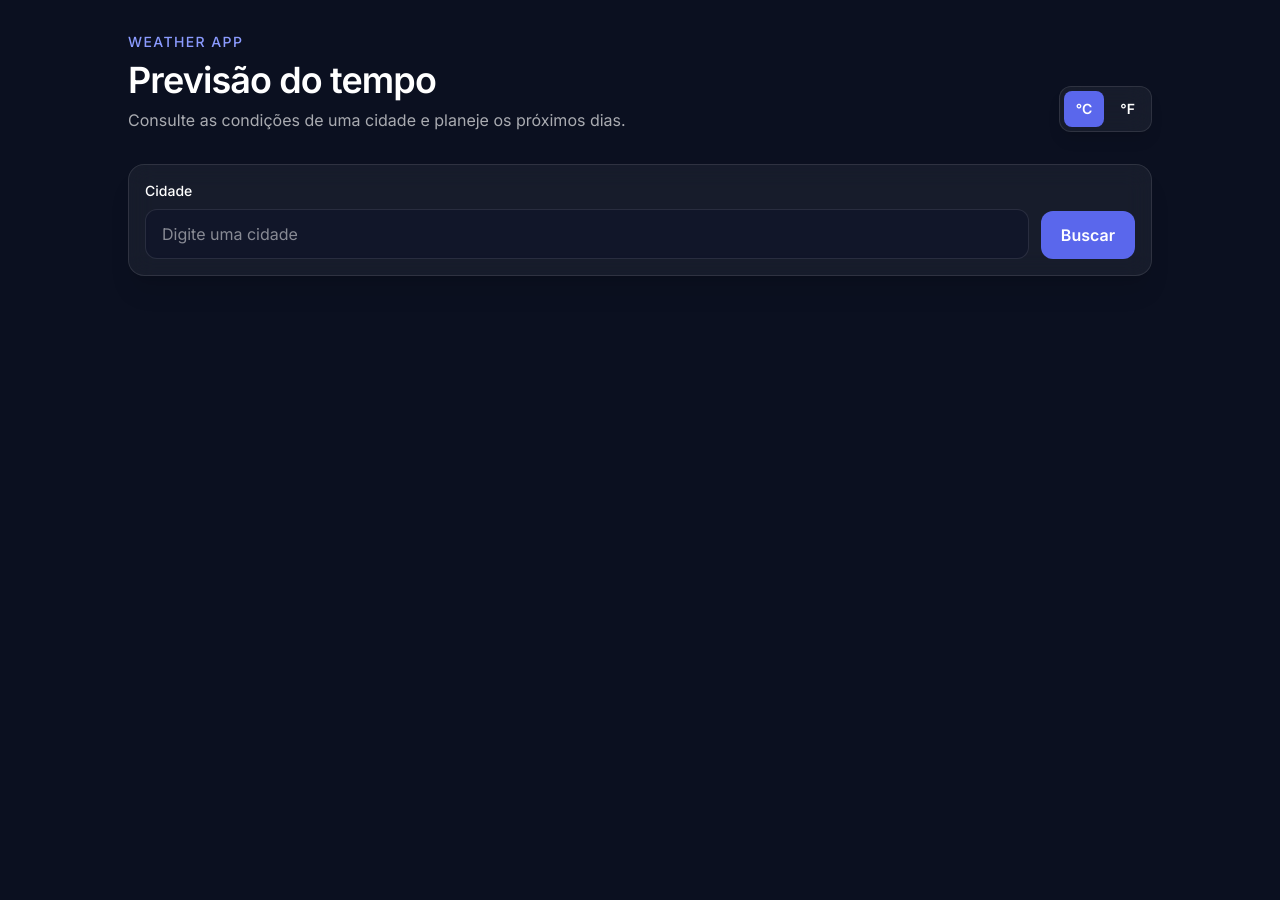
it: App › connects search, selection, forecast, and unit presentation
Type "São Paulo" into the search field labelled "Cidade".
click(587, 234); type("São Paulo")  # box top-left (145, 209), bottom-right (1029, 259)
Click the button "Buscar".
click(1088, 235)  # box top-left (1041, 211), bottom-right (1135, 259)
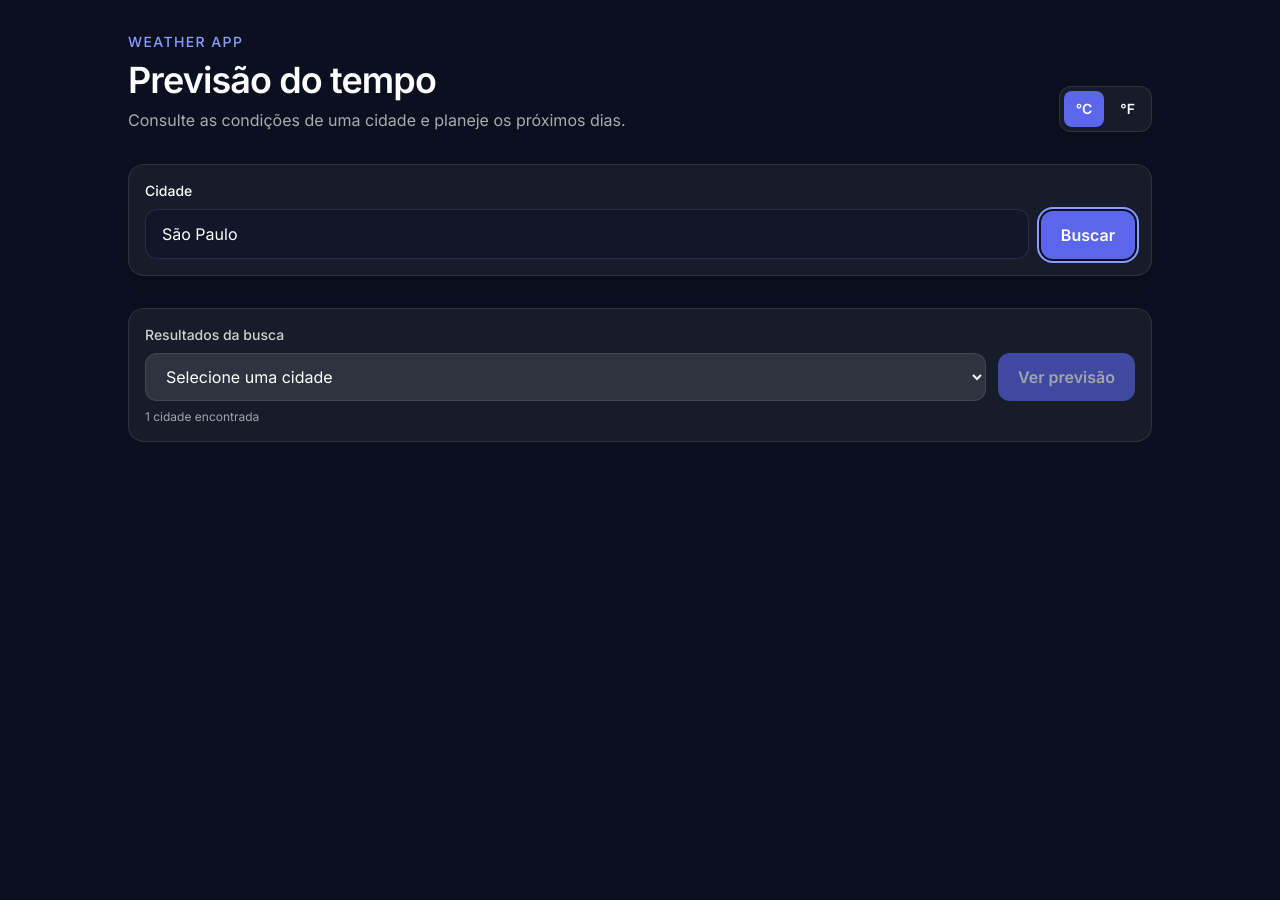
Select "São Paulo, São Paulo, Brasil" in the dropdown labelled "Resultados da busca" at (566, 377), box top-left (145, 353), bottom-right (986, 401)
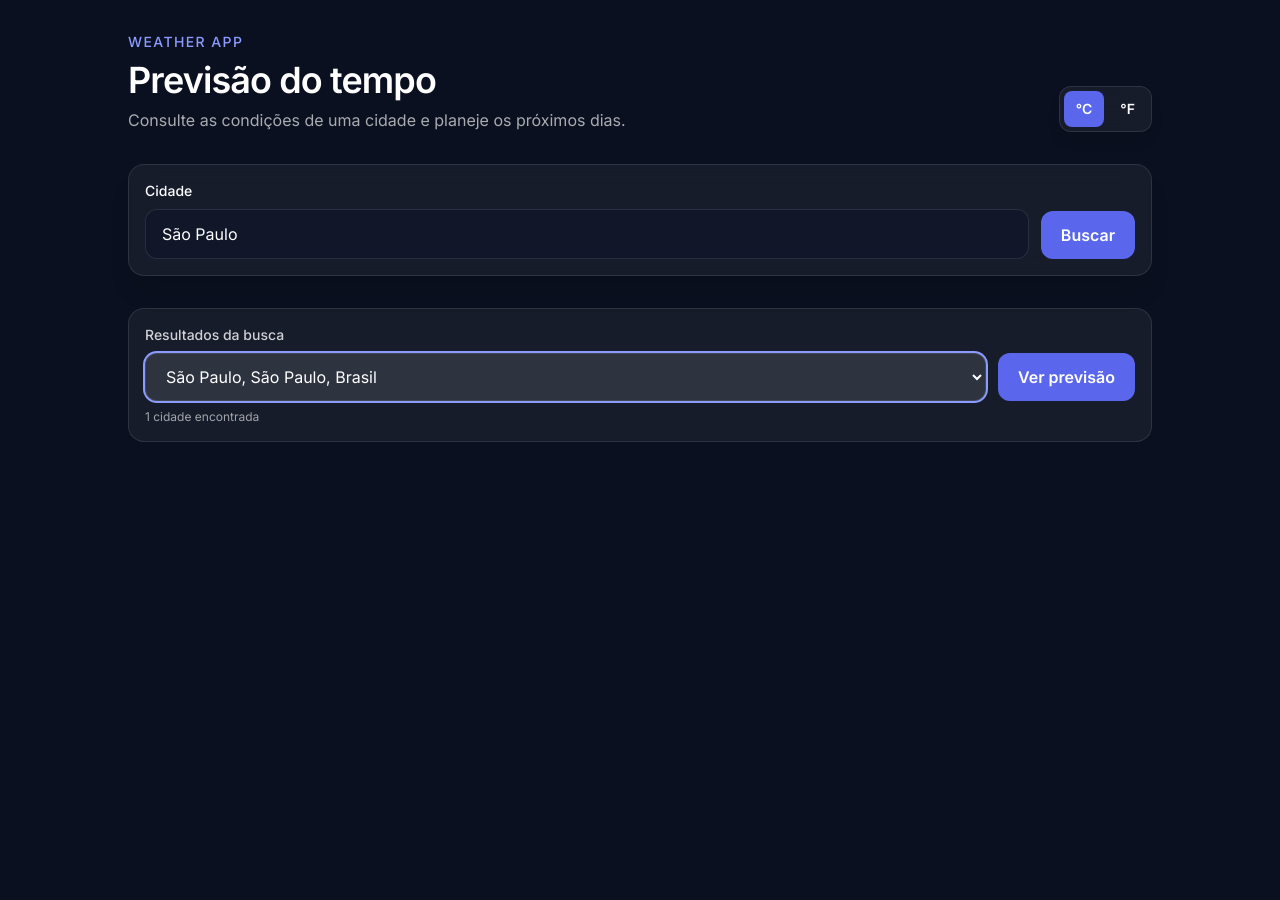
Click the button "Ver previsão".
click(1066, 377)  # box top-left (998, 353), bottom-right (1135, 401)
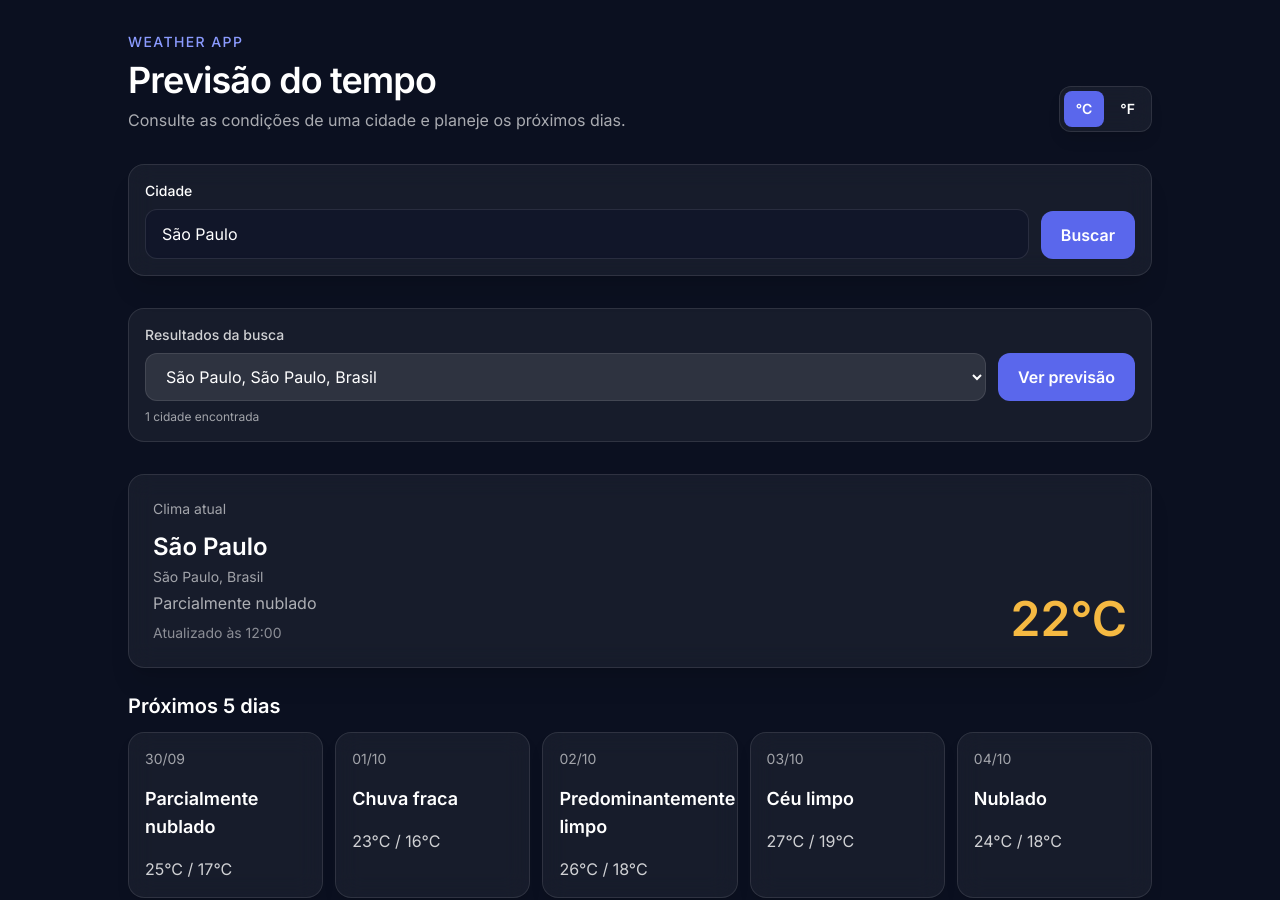
Check: the text "22°C" is shown, box top-left (1011, 595), bottom-right (1127, 643)
Click the button named "Fahrenheit".
click(1128, 109)  # box top-left (1108, 91), bottom-right (1147, 127)
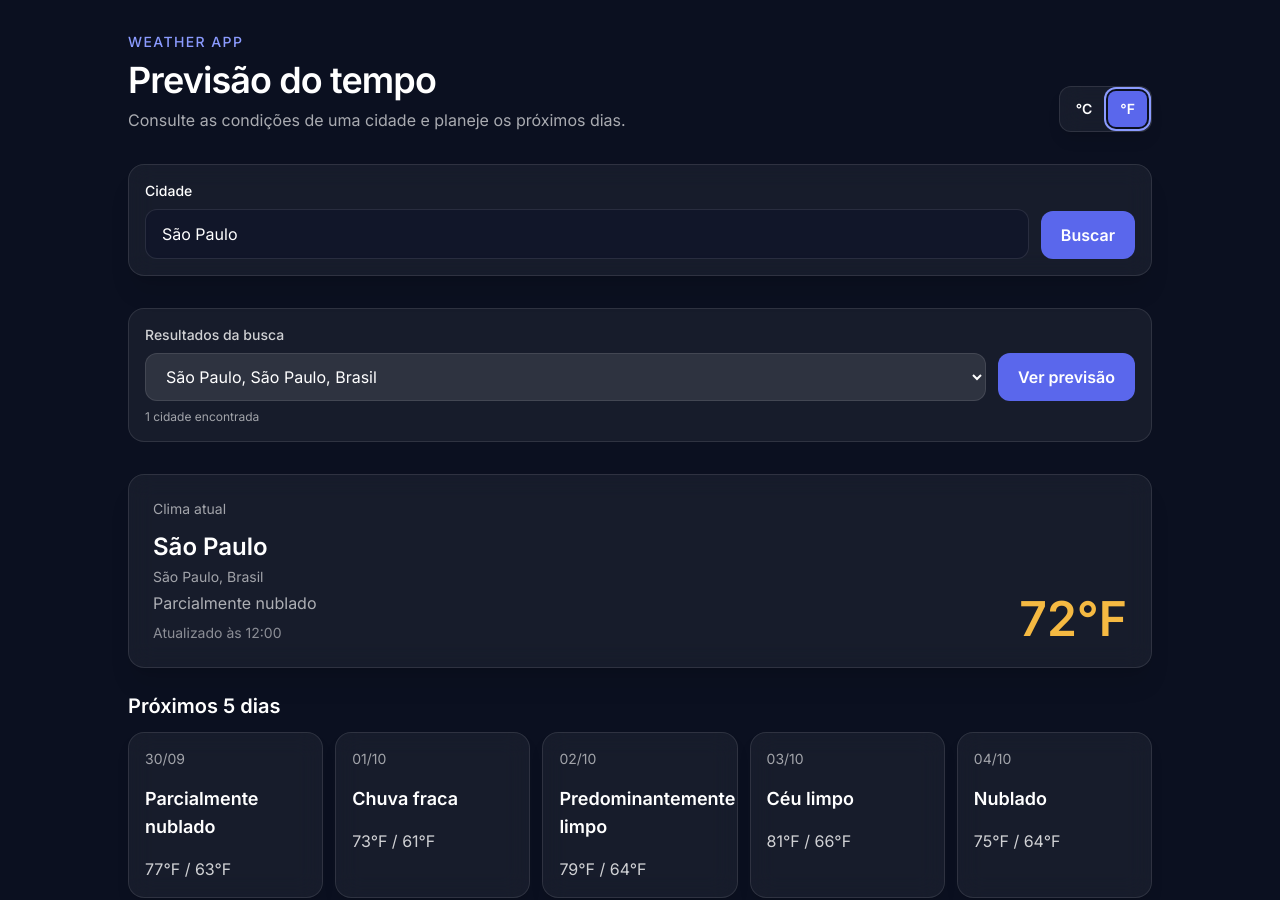
Check: the text "72°F" is shown, box top-left (1019, 595), bottom-right (1127, 643)
Replace the text in the search field labelled "Cidade" with "!!!" at (587, 234), box top-left (145, 209), bottom-right (1029, 259)
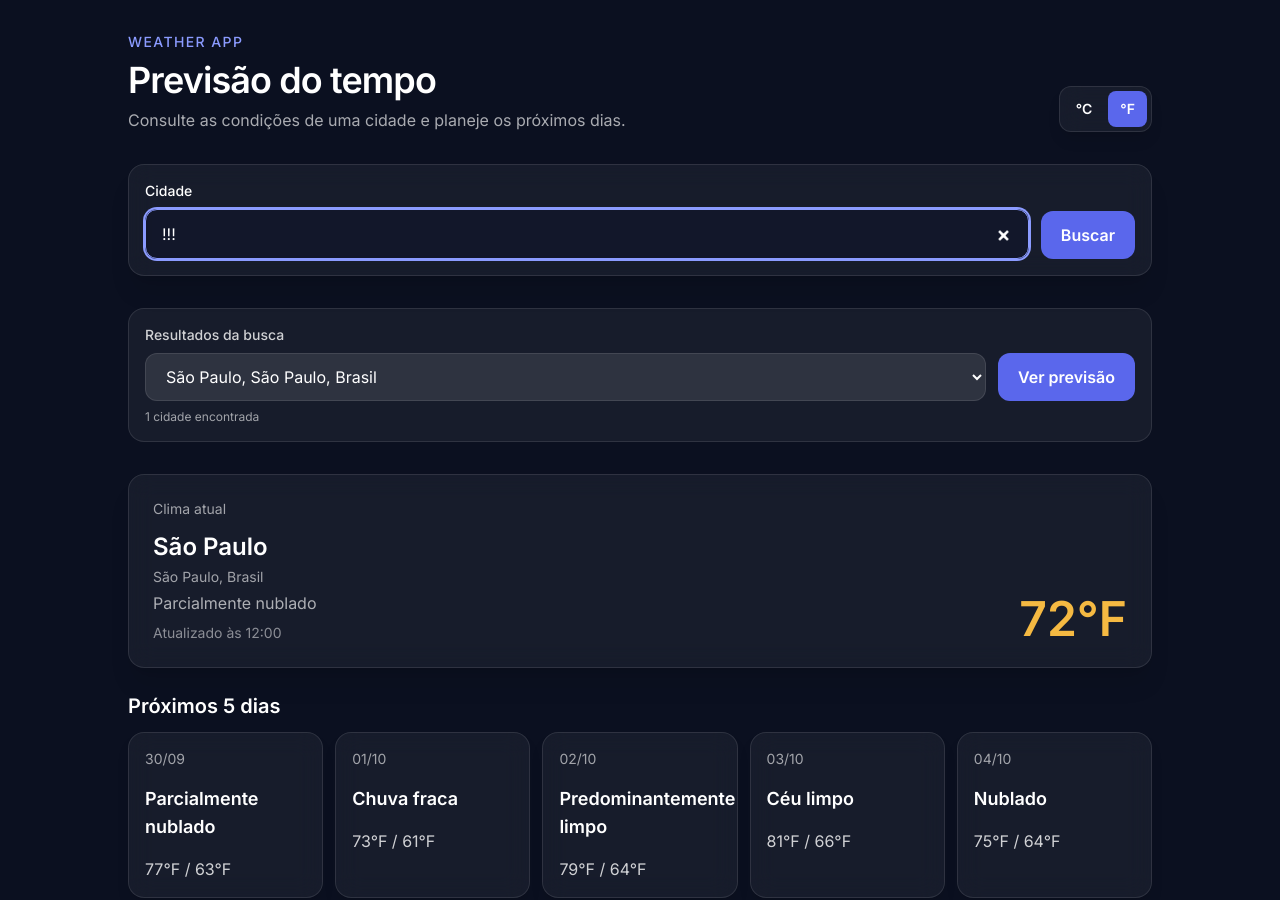
Click the button "Buscar".
click(1088, 235)  # box top-left (1041, 211), bottom-right (1135, 259)
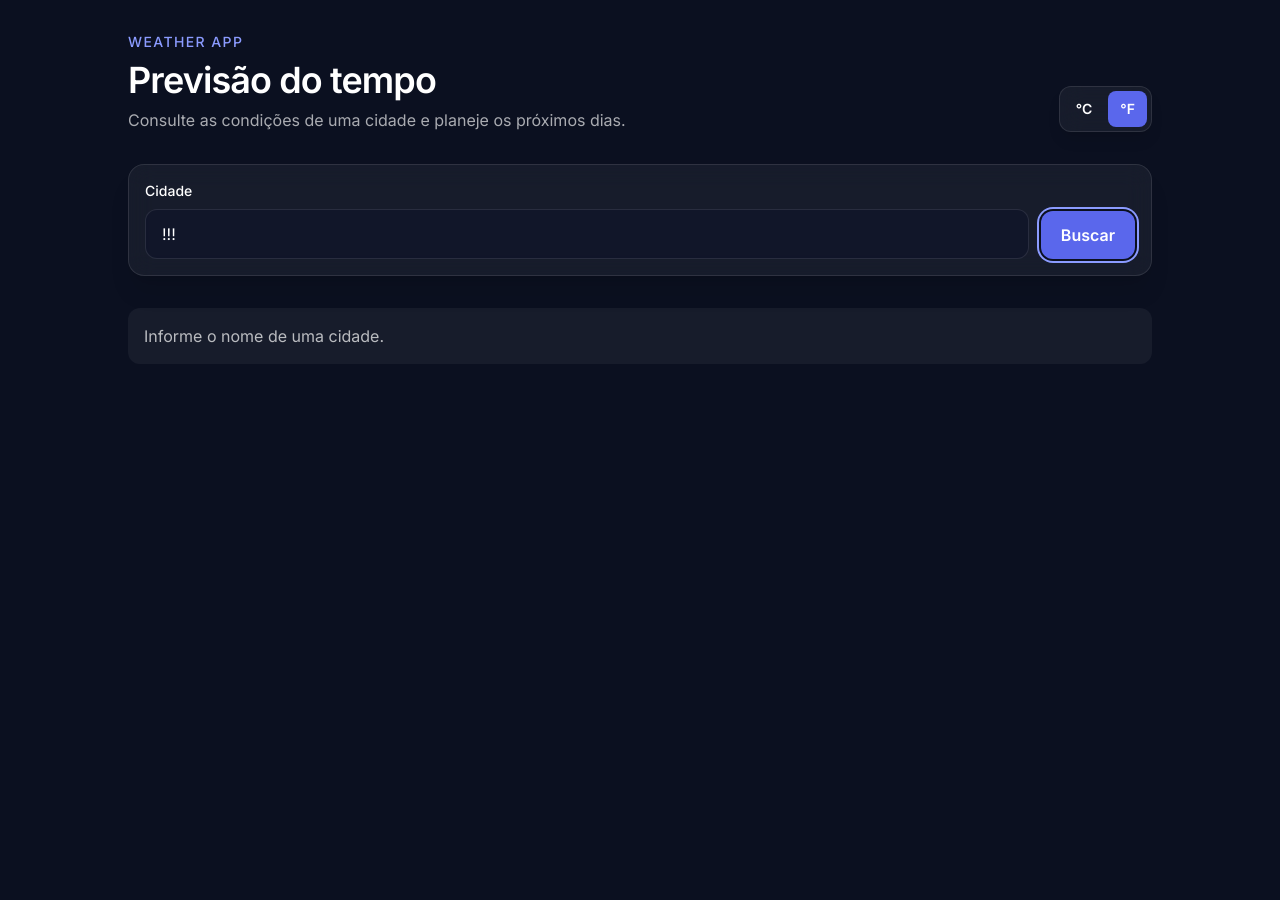
Check: the text "Informe o nome de uma cidade." is shown, box top-left (128, 308), bottom-right (1152, 364)
Check: the text "72°F" is gone
